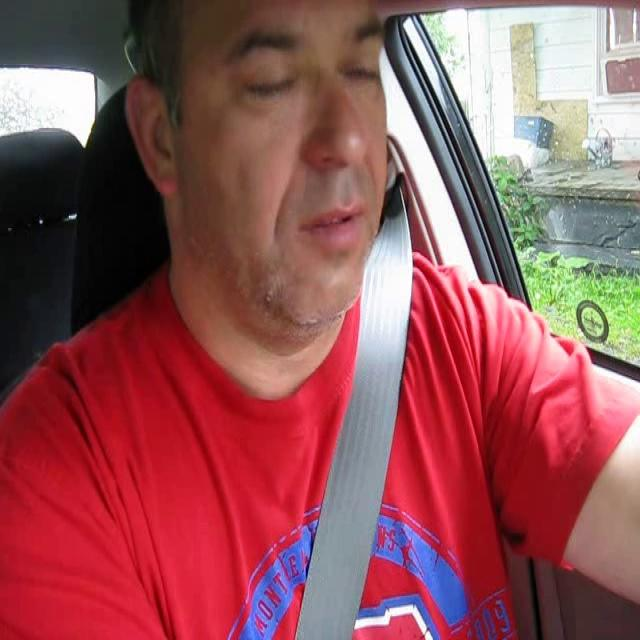close: (297, 196, 367, 252)
